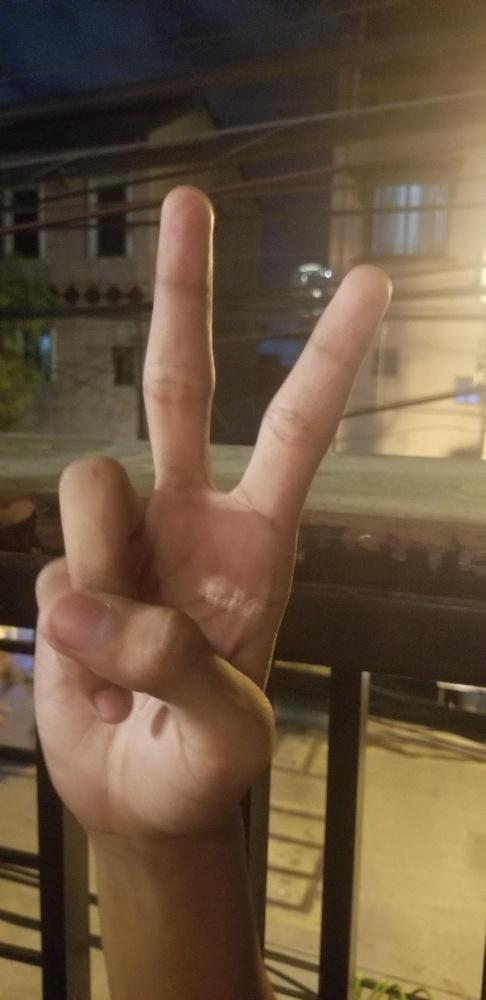v: (29, 181, 394, 830)
